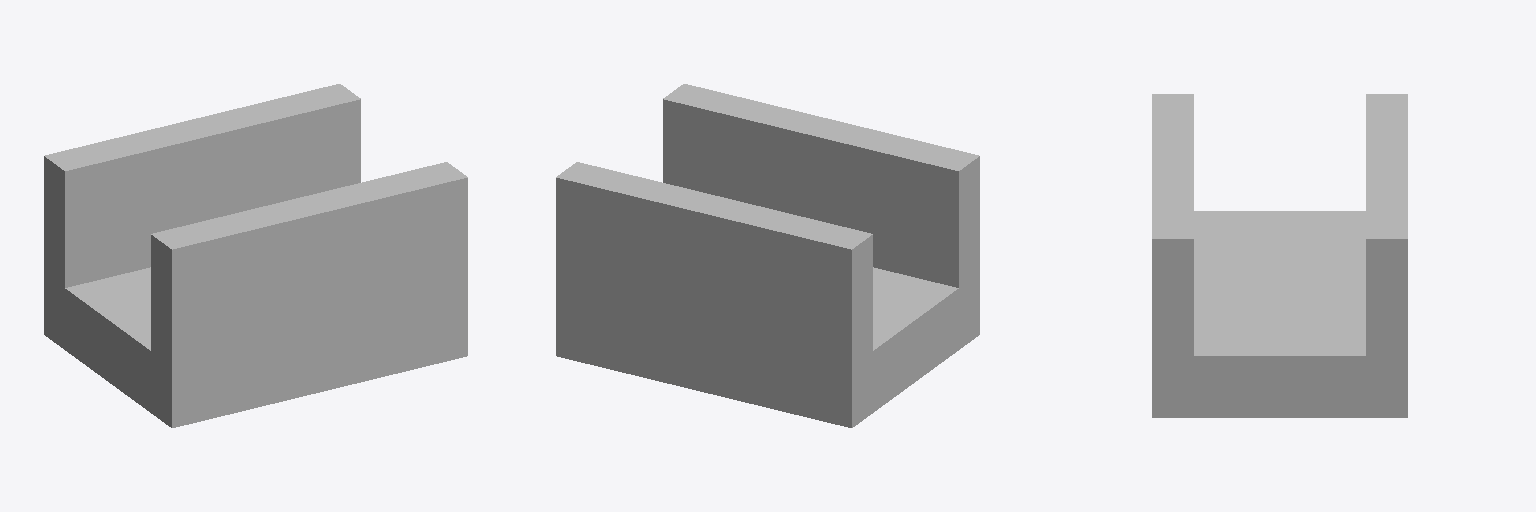
File: tile121.obj
3 views of the same model, side by side, from view 1: azimuth 30°, elevation 25°; view 2: azimuth 150°, elevation 25°; view 3: azimuth 270°, elevation 25° (orthographic).
Parts seen in each view (by area): view 1: tile121; view 2: tile121; view 3: tile121.
Part boxes in pixels (x1,y1,x2,y2): tile121: (44, 84, 467, 427); tile121: (556, 84, 979, 427); tile121: (1152, 94, 1407, 417).
Bounding box in the file's own units: 1 × 0.5767 × 0.75.